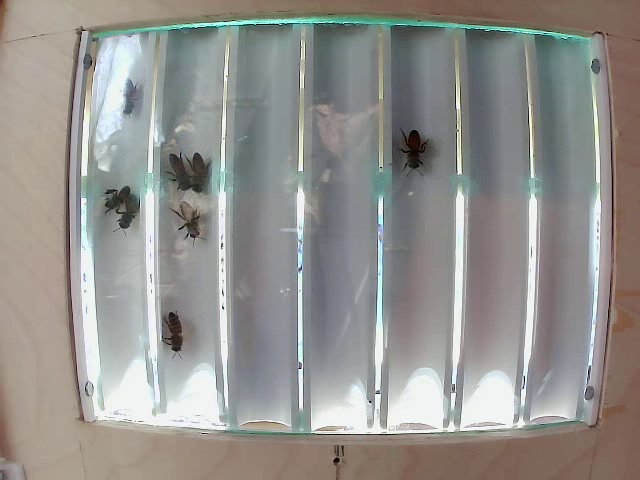bee: (157, 305, 201, 364), (165, 200, 214, 249), (186, 150, 214, 209), (97, 175, 135, 215), (158, 150, 192, 190), (399, 136, 431, 176), (117, 82, 148, 123), (114, 198, 144, 235)
